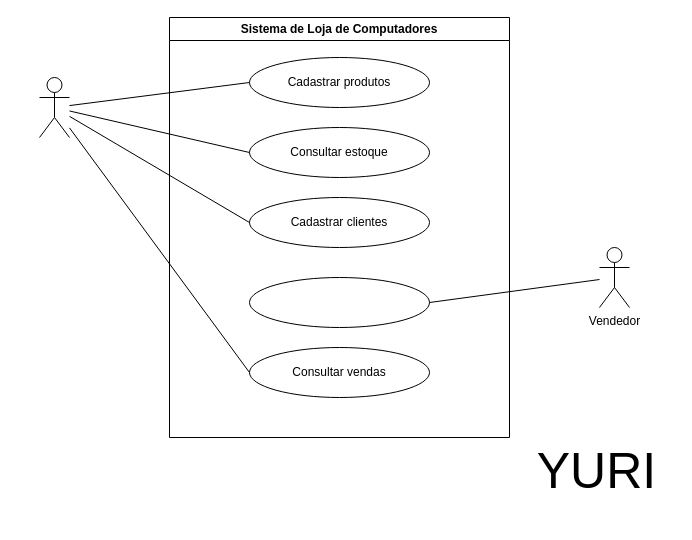
This 692x540 diagram has some shape labels left out. The centre of each missing label's shape, as x and y in pixels:
"Administrador" goes at point (54, 107).
"Registrar vendas" goes at point (339, 302).
